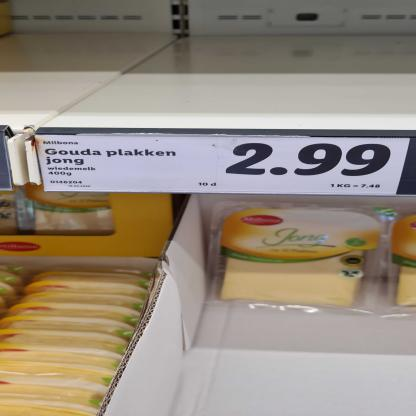prtg: (31, 136, 411, 196)
